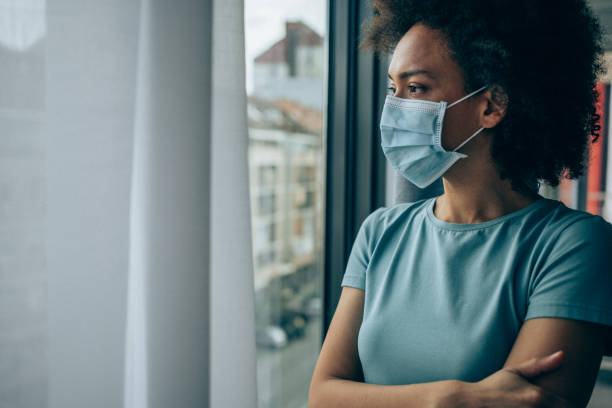with mask: (377, 20, 497, 190)
